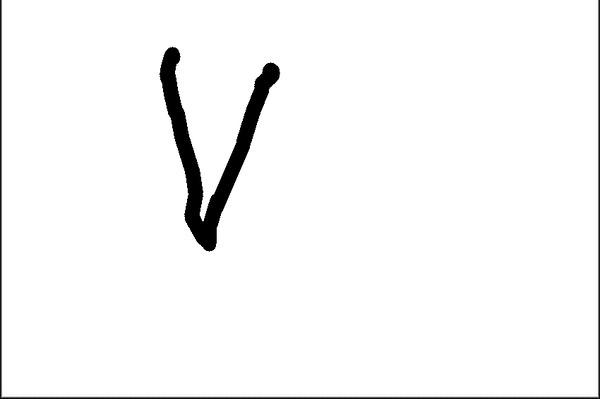V: (142, 45, 281, 254)
